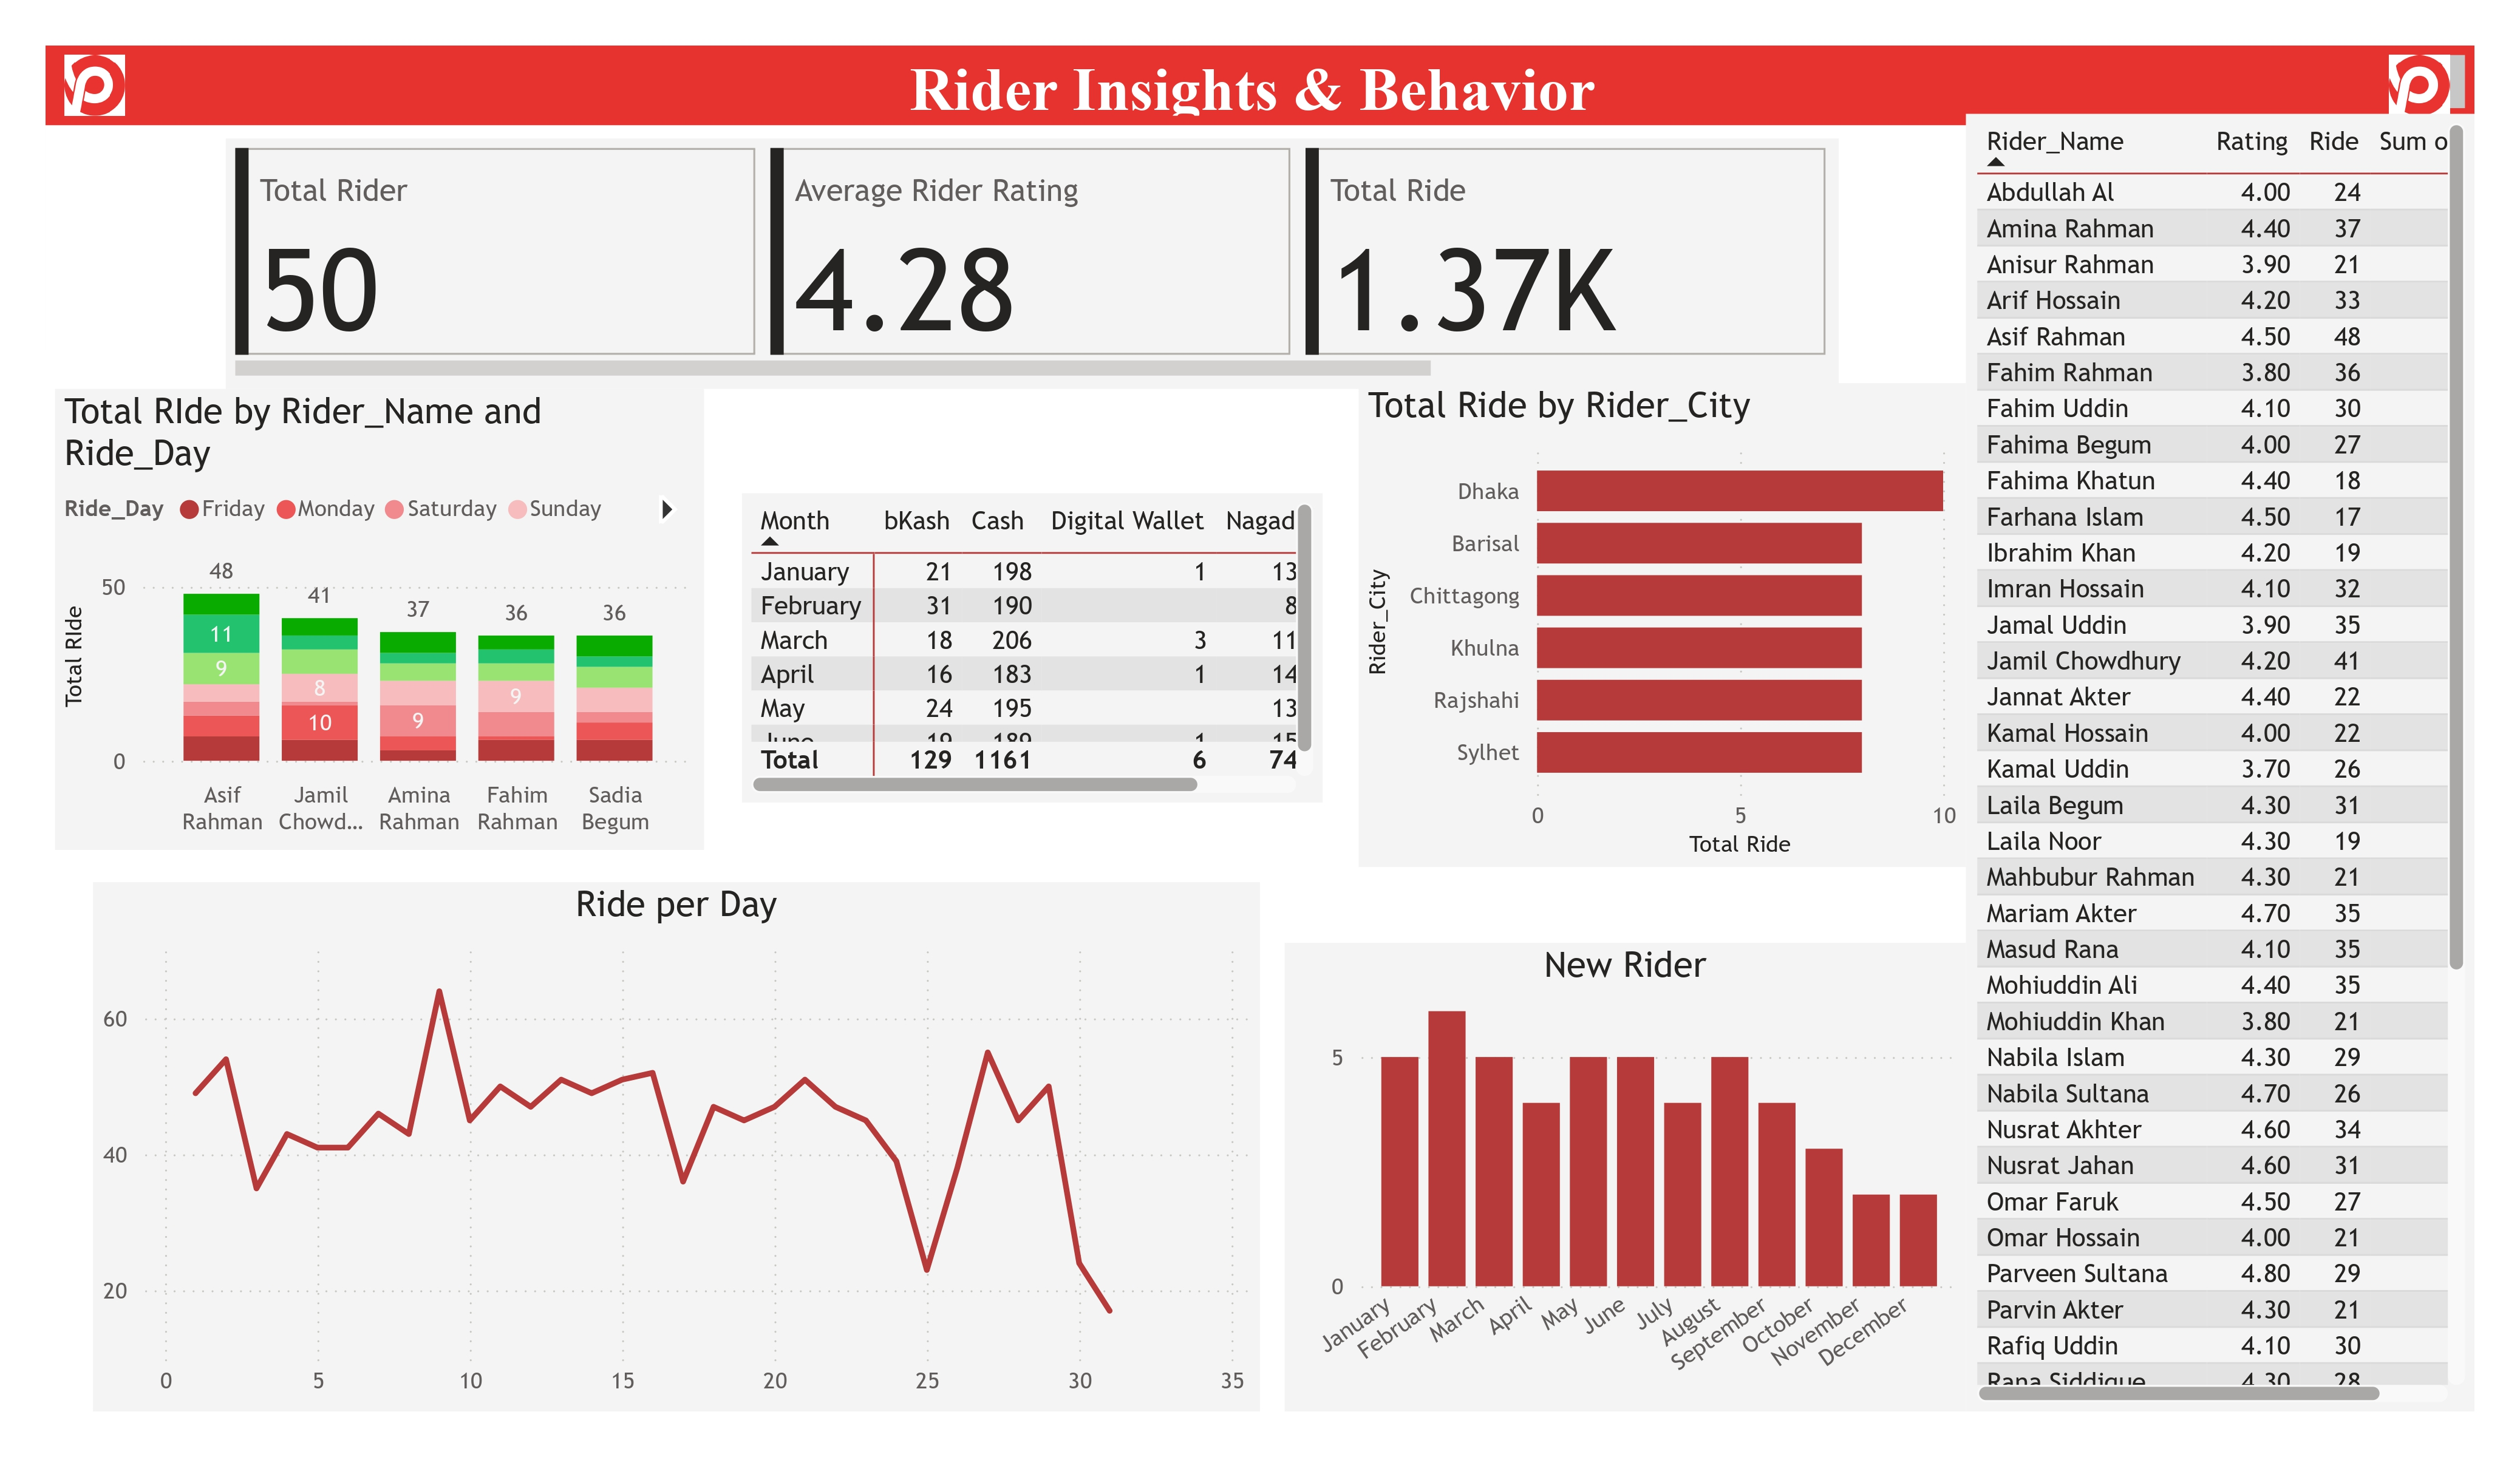

This screenshot's page, from the dashboard's own definition file:
{"tool":"powerbi","page":{"name":"Rider Insights","canvas":[1280,720],"ordinal":2},"visuals":[{"type":"textbox","box":[0,0,1280,41.8],"z":0},{"type":"image","box":[3.9,0,42.8,41.8],"z":1000},{"type":"image","box":[1229.4,0,42.8,41.8],"z":2000},{"type":"barChart","fields":{"Category":["Riders.Rider_City"],"Y":["Riders.Rider_ID"]},"box":[692,178.1,320,255.4],"z":3000},{"type":"cardVisual","title":"Total Drivers","fields":{"Data":["Riders.Rider_ID","Riders.Rider_Rating","Rides.Ride_ID","Rides.Fare"]},"box":[95.3,48.6,850.1,132.3],"z":4000},{"type":"tableEx","fields":{"Values":["Riders.Rider_Name","Riders.Rider_Rating","Rides.Ride_ID","Rides.Fare"]},"box":[1012,36.3,268,684.1],"z":5000},{"type":"lineChart","title":"Ride per Day","fields":{"Y":["Rides.Ride_ID"],"Category":["Rides.Ride_Date.Variation.Date Hierarchy.Day"]},"box":[25.2,441.4,614.8,279],"z":6000},{"type":"columnChart","title":"New Rider","fields":{"Category":["Riders.Rider_Join_Date.Variation.Date Hierarchy.Month"],"Y":["Riders.Rider_ID"]},"box":[652.6,472.9,359.4,247.5],"z":7000},{"type":"columnChart","fields":{"Y":["Rides.Ride_ID"],"Series":["Rides.Ride_Day"],"Category":["Riders.Rider_Name"]},"box":[4.7,181.3,342.1,242.8],"z":8000},{"type":"pivotTable","fields":{"Rows":["Rides.Ride_Date.Variation.Date Hierarchy.Month"],"Values":["Rides.Payment_Method"],"Columns":["Rides.Payment_Method"]},"box":[367.3,236.5,305.8,162.4],"z":9000}]}

Visuals, with their boxes on the page's 1280x720 design canvas (x1, y1, x2, y2). These are canvas units, not pixel positions in the 2520x1457 screenshot, which may show the page scaled, cropped or inside an application window:
textbox: BBox(0, 0, 1280, 42)
image: BBox(4, 0, 47, 42)
image: BBox(1229, 0, 1272, 42)
barChart - Riders.Rider_City x Riders.Rider_ID: BBox(692, 178, 1012, 434)
"Total Drivers" cardVisual: BBox(95, 49, 945, 181)
tableEx - Riders.Rider_Name x Riders.Rider_Rating: BBox(1012, 36, 1280, 720)
"Ride per Day" lineChart: BBox(25, 441, 640, 720)
"New Rider" columnChart: BBox(653, 473, 1012, 720)
columnChart - Rides.Ride_ID x Rides.Ride_Day: BBox(5, 181, 347, 424)
pivotTable - Rides.Ride_Date.Variation.Date Hierarchy.Month x Rides.Payment_Method: BBox(367, 236, 673, 399)
